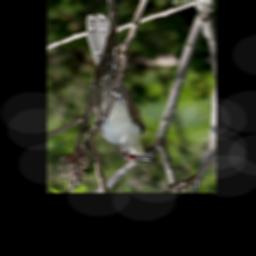Cuckoo: (83, 14, 158, 165)
